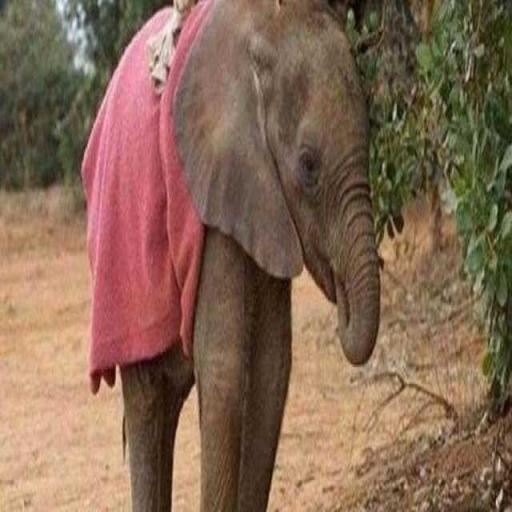Elephant: (80, 0, 381, 510)
